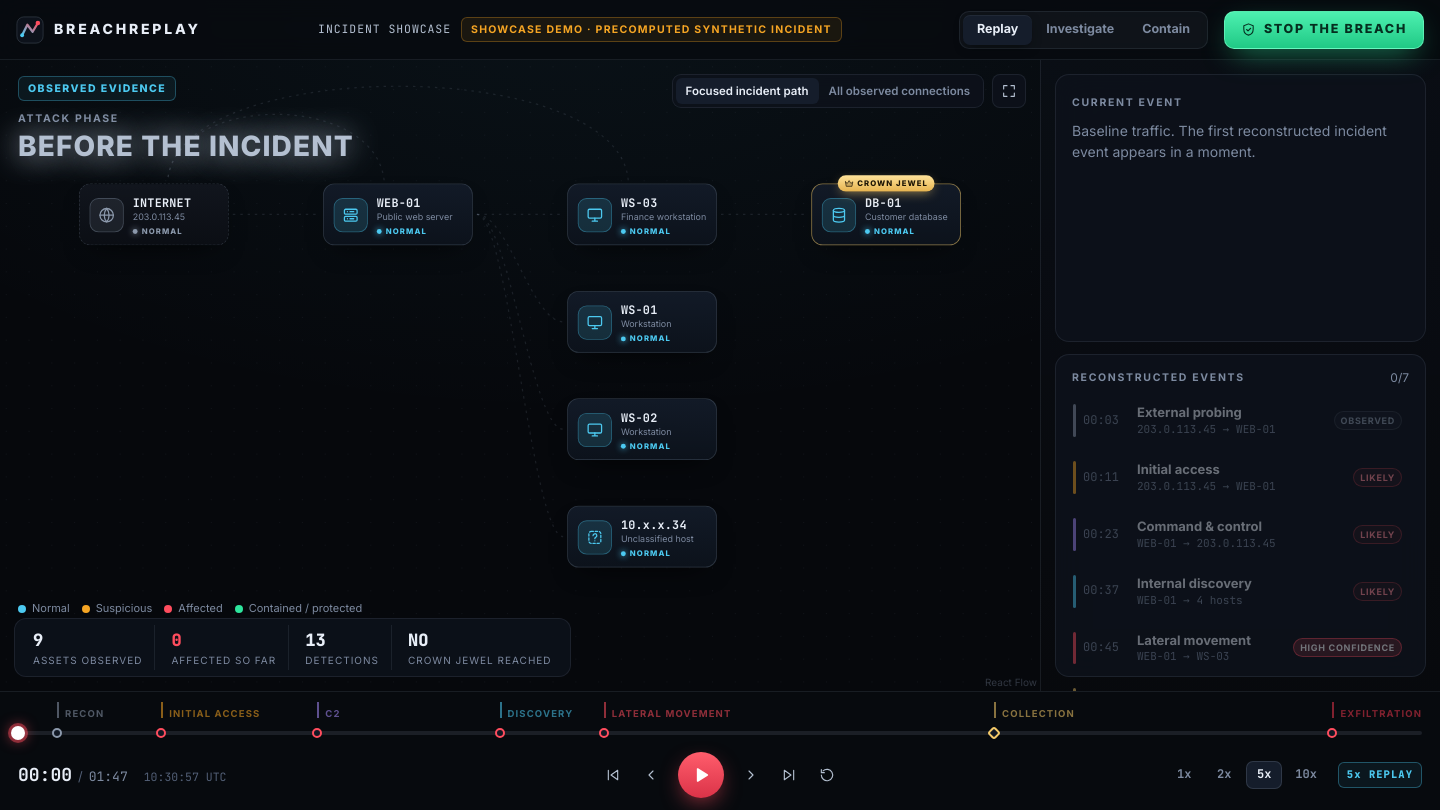
IncidentView › switches between focused path and all connections
Click the button with test id "view-all" at (899, 91), box left=819, top=78, right=980, bottom=104
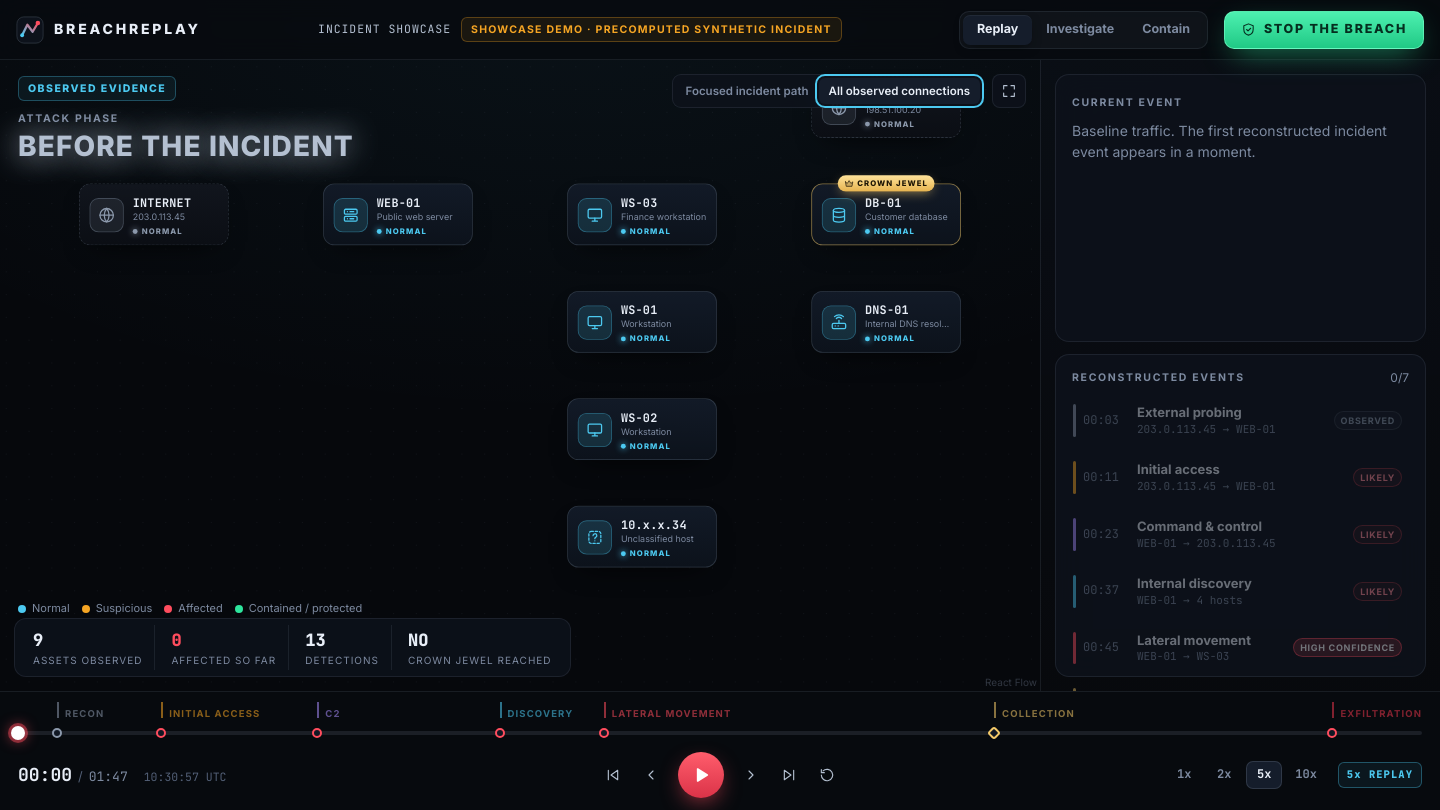
Now the element with test id "node-asset-dns-01" is shown, box left=811, top=291, right=961, bottom=353
